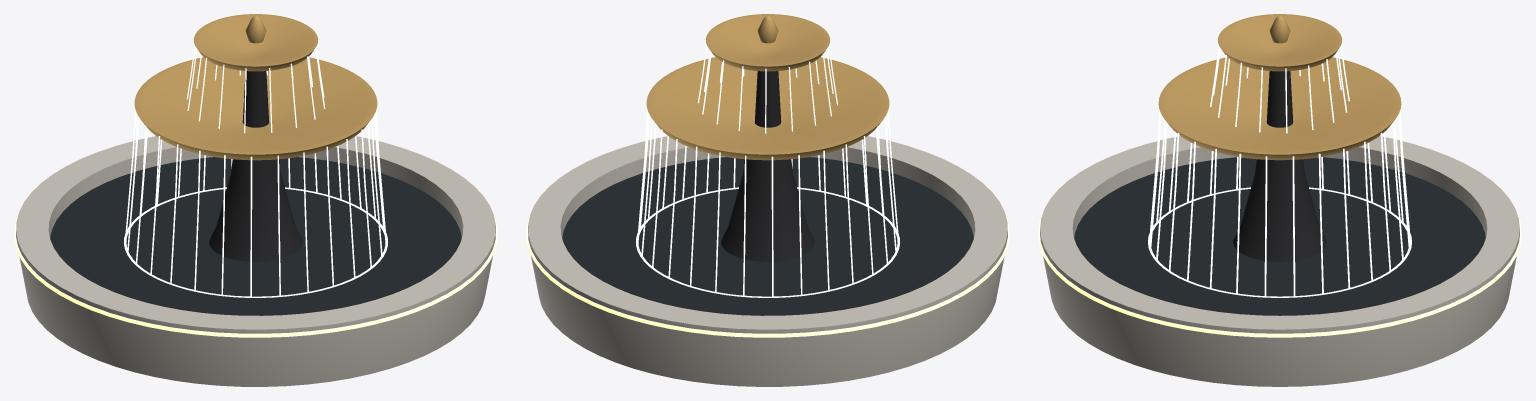
File: fountain_tier.glb
3 views of the same model, side by side, from view 1: azimuth 30°, elevation 25°; view 2: azimuth 150°, elevation 25°; view 3: azimuth 270°, elevation 25° (orthographic).
Visible parts, largest first — view 1: Basin_LOD0, Water_LOD0, Bowl_LOD0, Stem_LOD0, Bowl2_LOD0, RimLight_LOD0, Stem2_LOD0, Glint_LOD0, Finial_LOD0; view 2: Basin_LOD0, Water_LOD0, Bowl_LOD0, Stem_LOD0, Bowl2_LOD0, RimLight_LOD0, Stem2_LOD0, Glint_LOD0, Finial_LOD0; view 3: Basin_LOD0, Water_LOD0, Bowl_LOD0, Stem_LOD0, Bowl2_LOD0, RimLight_LOD0, Stem2_LOD0, Glint_LOD0, Finial_LOD0.
Part boxes in pixels (<box>): Basin_LOD0: <box>16,136,495,386</box>; Water_LOD0: <box>50,157,461,315</box>; Bowl_LOD0: <box>134,57,377,160</box>; Stem_LOD0: <box>209,159,302,261</box>; Bowl2_LOD0: <box>194,14,318,71</box>; RimLight_LOD0: <box>14,213,497,337</box>; Stem2_LOD0: <box>242,71,269,127</box>; Glint_LOD0: <box>124,187,387,297</box>; Finial_LOD0: <box>245,15,266,43</box>; Basin_LOD0: <box>528,136,1007,386</box>; Water_LOD0: <box>562,157,973,315</box>; Bowl_LOD0: <box>646,57,889,160</box>; Stem_LOD0: <box>721,159,814,261</box>; Bowl2_LOD0: <box>705,14,829,71</box>; RimLight_LOD0: <box>526,213,1009,337</box>; Stem2_LOD0: <box>754,71,781,127</box>; Glint_LOD0: <box>636,187,899,297</box>; Finial_LOD0: <box>757,15,778,43</box>; Basin_LOD0: <box>1040,136,1519,386</box>; Water_LOD0: <box>1074,157,1485,315</box>; Bowl_LOD0: <box>1158,57,1401,160</box>; Stem_LOD0: <box>1233,159,1326,261</box>; Bowl2_LOD0: <box>1217,14,1342,71</box>; RimLight_LOD0: <box>1038,212,1521,337</box>; Stem2_LOD0: <box>1266,71,1293,127</box>; Glint_LOD0: <box>1148,187,1411,297</box>; Finial_LOD0: <box>1269,15,1290,43</box>.
Size of the model in its own units: 3.26 by 2.05 by 3.26.
